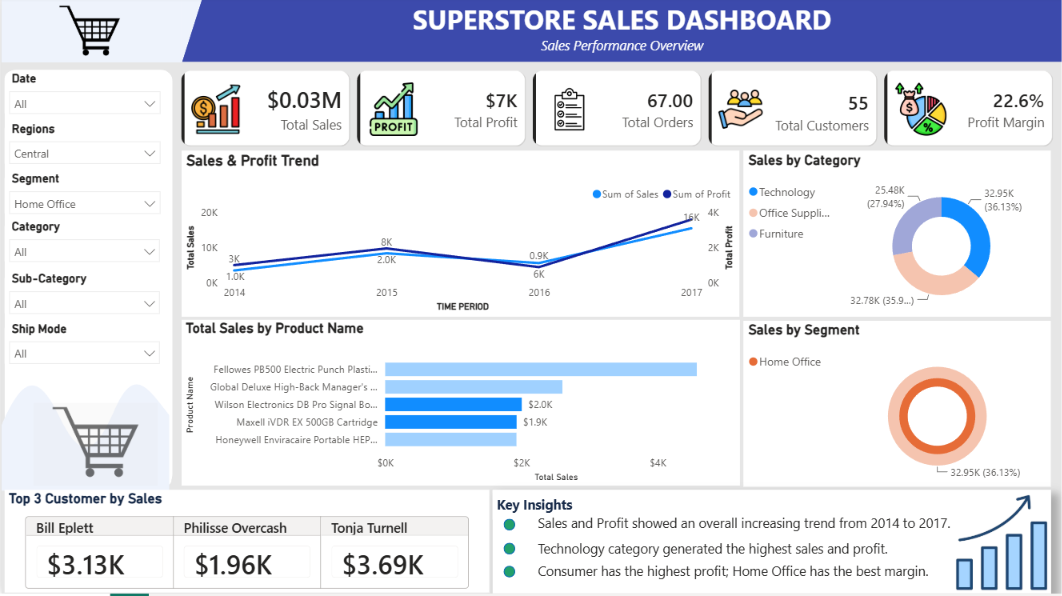

Layout of this report page (visuals, bound fields, positions):
{"tool":"powerbi","page":{"name":"Executive Overview","canvas":[1280,720],"ordinal":0},"visuals":[{"type":"shape","box":[4,451.5,201.7,138.6],"z":0},{"type":"shape","box":[3.6,88.1,202.7,501.9],"z":1000},{"type":"textbox","box":[217.2,0,1062.9,78.4],"z":2000},{"type":"cardVisual","fields":{"Data":["Sales_Data.Total Sales","Sales_Data.Total Profit","Sales_Data.Total Orders","Sales_Data.Total Customers","Sales_Data.Profit Margin"]},"box":[206.3,78.4,1073.7,112.2],"z":3000},{"type":"donutChart","title":"Sales by Category","fields":{"Y":["Sum(Sales_Data.Sales)"],"Category":["Sales_Data.Category"]},"box":[895,185.2,370,200.3],"z":4000},{"type":"slicer","fields":{"Values":["DateTable.Year Hierarchy.Year","DateTable.Year Hierarchy.Month","DateTable.Year Hierarchy.Day"]},"box":[4.1,88.8,193.5,60],"z":5000},{"type":"slicer","fields":{"Values":["Sales_Data.Regions","Sales_Data.State"]},"box":[4,149,193.5,60],"z":6000},{"type":"lineChart","title":"Sales & Profit Trend ","fields":{"Category":["DateTable.Year Hierarchy.Year","DateTable.Year Hierarchy.Quarter","DateTable.Year Hierarchy.Month"],"Y":["Sum(Sales_Data.Sales)"],"Y2":["Sum(Sales_Data.Profit)"]},"box":[217,185.2,673.2,200],"z":7000},{"type":"donutChart","title":"Sales by Segment","fields":{"Y":["Sum(Sales_Data.Sales)"],"Category":["Sales_Data.Segment"]},"box":[895.2,390.9,370,200.3],"z":8000},{"type":"barChart","fields":{"Category":["Sales_Data.Product Name"],"Y":["Sales_Data.Total Sales"]},"box":[217,390,673.8,200.3],"z":9000},{"type":"slicer","fields":{"Values":["Sales_Data.Category"]},"box":[4,267.8,193,60],"z":10000},{"type":"slicer","fields":{"Values":["Sales_Data.Segment"]},"box":[4,209.6,193.5,60],"z":11000},{"type":"slicer","fields":{"Values":["Sales_Data.Sub-Category"]},"box":[4,330.3,193,60],"z":12000},{"type":"slicer","fields":{"Values":["Sales_Data.Ship Mode"]},"box":[4,390.7,193,60],"z":13000},{"type":"shape","box":[0,0,242.9,79],"z":14000},{"type":"shape","box":[0,0,216.8,79],"z":15000},{"type":"image","box":[61.7,6.9,89.2,71.4],"z":16000},{"type":"image","box":[3.6,390.9,202.7,199.1],"z":17000},{"type":"image","box":[38.4,489.9,149.6,100.2],"z":18000},{"type":"shape","box":[592.4,594.8,673.8,124.9],"z":19000},{"type":"textbox","box":[592.4,596,111.1,34.3],"z":20000},{"type":"shape","box":[605.1,629.8,14,14],"z":21000},{"type":"shape","box":[605.1,658.7,14,14],"z":22000},{"type":"shape","box":[605.1,686.1,14,14],"z":23000},{"type":"textbox","box":[642.2,618.9,516,34.3],"z":24000},{"type":"textbox","box":[642.2,649,505,34.3],"z":25000},{"type":"textbox","box":[642,676.5,505,34.3],"z":26000},{"type":"image","box":[1147.2,595.5,118,124.9],"z":27000},{"type":"cardVisual","title":"Top 3 Customer by Sales","fields":{"Rows":["Sales_Data.Customer Name"],"Data":["Sales_Data.Total Sales"]},"box":[3.6,594.8,585.1,124.3],"z":28000}]}

Visuals, with their boxes in screenshot pixels (x1, y1, x2, y2), scaled from the page's 1280x720 canvas onto the 1062x596 screenshot:
shape: [left=3, top=374, right=171, bottom=488]
shape: [left=3, top=73, right=171, bottom=488]
textbox: [left=180, top=0, right=1061, bottom=65]
cardVisual - Sales_Data.Total Sales x Sales_Data.Total Profit: [left=171, top=65, right=1061, bottom=158]
"Sales by Category" donutChart: [left=743, top=153, right=1050, bottom=319]
slicer - DateTable.Year Hierarchy.Year x DateTable.Year Hierarchy.Month: [left=3, top=74, right=164, bottom=123]
slicer - Sales_Data.Regions x Sales_Data.State: [left=3, top=123, right=164, bottom=173]
"Sales & Profit Trend " lineChart: [left=180, top=153, right=739, bottom=319]
"Sales by Segment" donutChart: [left=743, top=324, right=1050, bottom=489]
barChart - Sales_Data.Product Name x Sales_Data.Total Sales: [left=180, top=323, right=739, bottom=489]
slicer - Sales_Data.Category: [left=3, top=222, right=163, bottom=271]
slicer - Sales_Data.Segment: [left=3, top=174, right=164, bottom=223]
slicer - Sales_Data.Sub-Category: [left=3, top=273, right=163, bottom=323]
slicer - Sales_Data.Ship Mode: [left=3, top=323, right=163, bottom=373]
shape: [left=0, top=0, right=202, bottom=65]
shape: [left=0, top=0, right=180, bottom=65]
image: [left=51, top=6, right=125, bottom=65]
image: [left=3, top=324, right=171, bottom=488]
image: [left=32, top=406, right=156, bottom=488]
shape: [left=492, top=492, right=1051, bottom=595]
textbox: [left=492, top=493, right=584, bottom=522]
shape: [left=502, top=521, right=514, bottom=533]
shape: [left=502, top=545, right=514, bottom=557]
shape: [left=502, top=568, right=514, bottom=580]
textbox: [left=533, top=512, right=961, bottom=541]
textbox: [left=533, top=537, right=952, bottom=566]
textbox: [left=533, top=560, right=952, bottom=588]
image: [left=952, top=493, right=1050, bottom=595]
"Top 3 Customer by Sales" cardVisual: [left=3, top=492, right=488, bottom=595]
